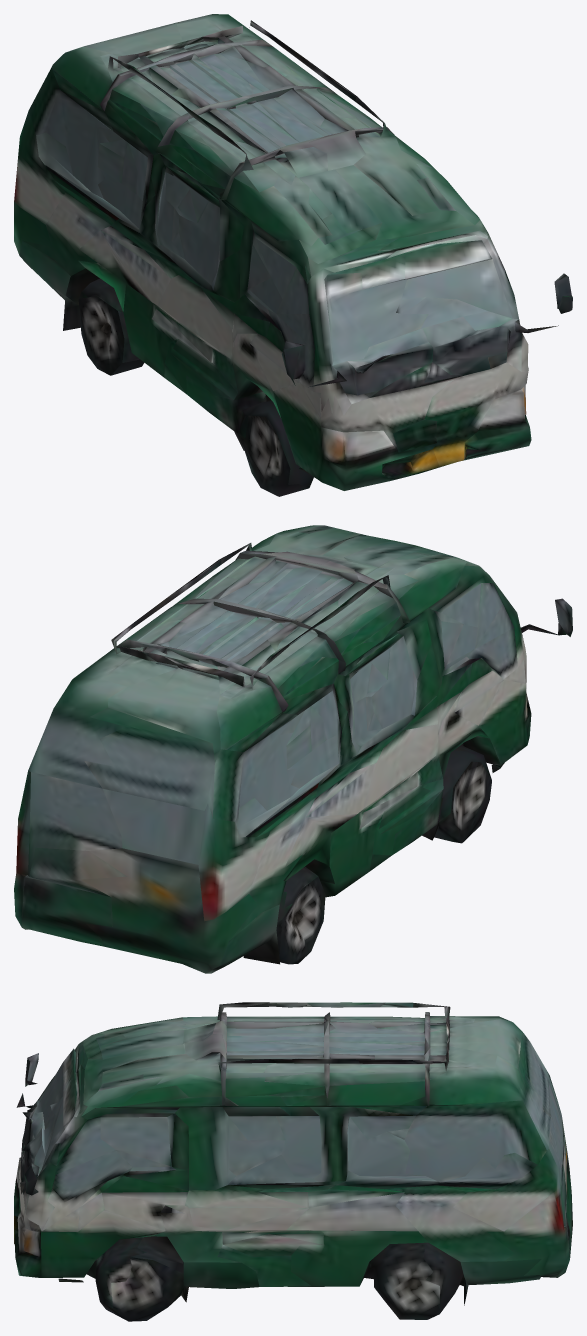
The model's file is angkot_lod2.glb.
The picture shows the model from 3 angles, top to bottom: view 1: azimuth 30°, elevation 25°; view 2: azimuth 150°, elevation 25°; view 3: azimuth 270°, elevation 25°; orthographic projection. The views are drawn at different scales.
Parts seen in each view (by area): view 1: tripo_node_5af0fbdc; view 2: tripo_node_5af0fbdc; view 3: tripo_node_5af0fbdc.
Boxes of the visible parts, <box> form: tripo_node_5af0fbdc: <box>14,14,572,496</box>; tripo_node_5af0fbdc: <box>14,525,572,973</box>; tripo_node_5af0fbdc: <box>14,1002,572,1321</box>.
Bounding box in the file's own units: 49.84 × 49.61 × 99.98.
Materials: 1 (1 with a texture image).
